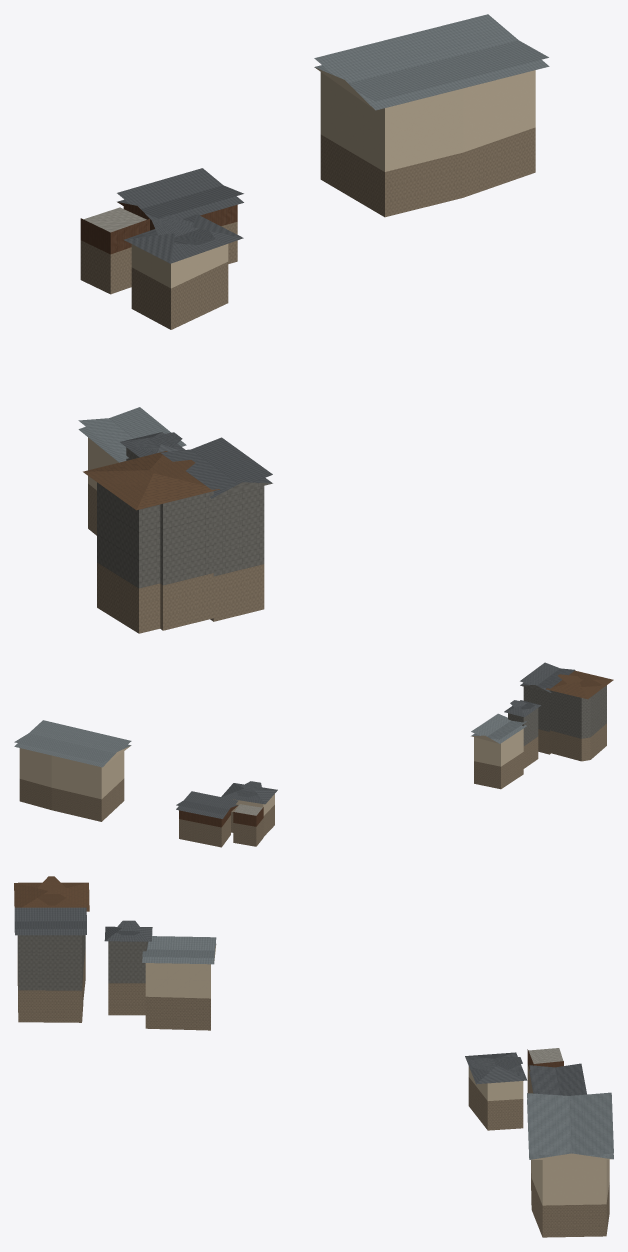
The model's file is bld_c33_-40_444.gltf.
3 renders of one model, top to bottom at view 1: azimuth 30°, elevation 25°; view 2: azimuth 150°, elevation 25°; view 3: azimuth 270°, elevation 25°, orthographic. The views are drawn at different scales.
Parts seen in each view (by area): view 1: bld_c33_-40_444; view 2: bld_c33_-40_444; view 3: bld_c33_-40_444.
Boxes of the visible parts, left/top/right/bottom form: bld_c33_-40_444: left=78, top=14, right=549, bottom=633; bld_c33_-40_444: left=14, top=662, right=613, bottom=847; bld_c33_-40_444: left=14, top=876, right=613, bottom=1237.
Bounding box in the file's own units: 91.77 × 17 × 86.61.
11 materials, 11 textured.
